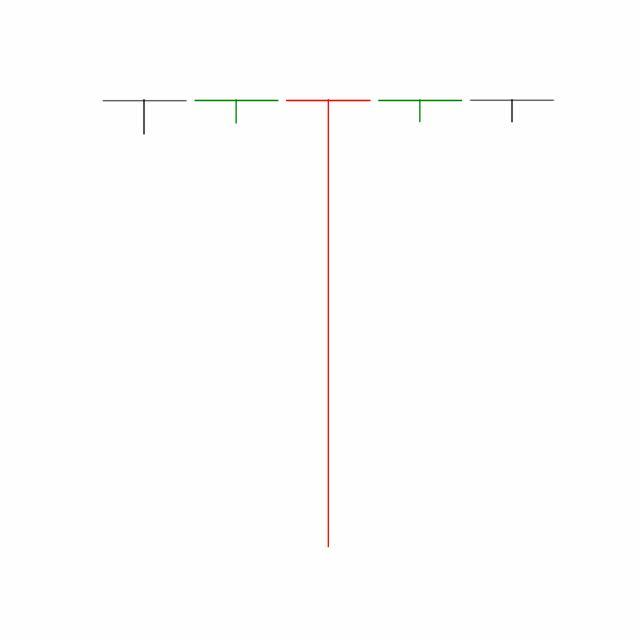Dragonfly Doji: (374, 99, 468, 124)
